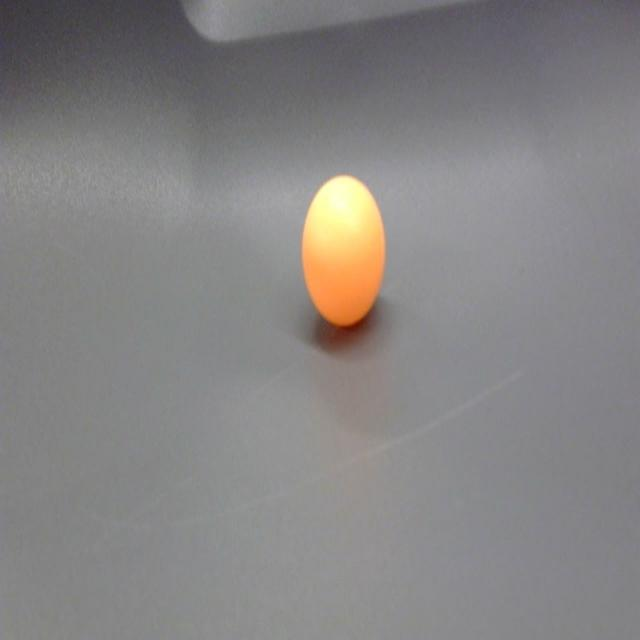ball: (299, 174, 388, 333)
